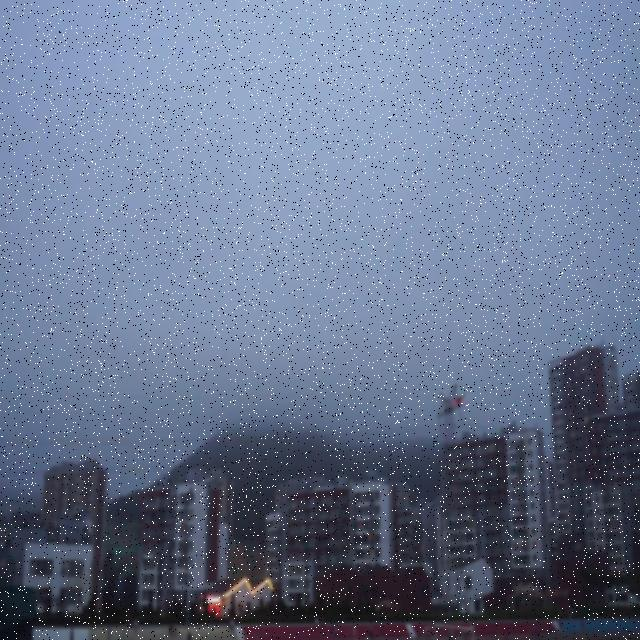UAV: (452, 393, 466, 408)
